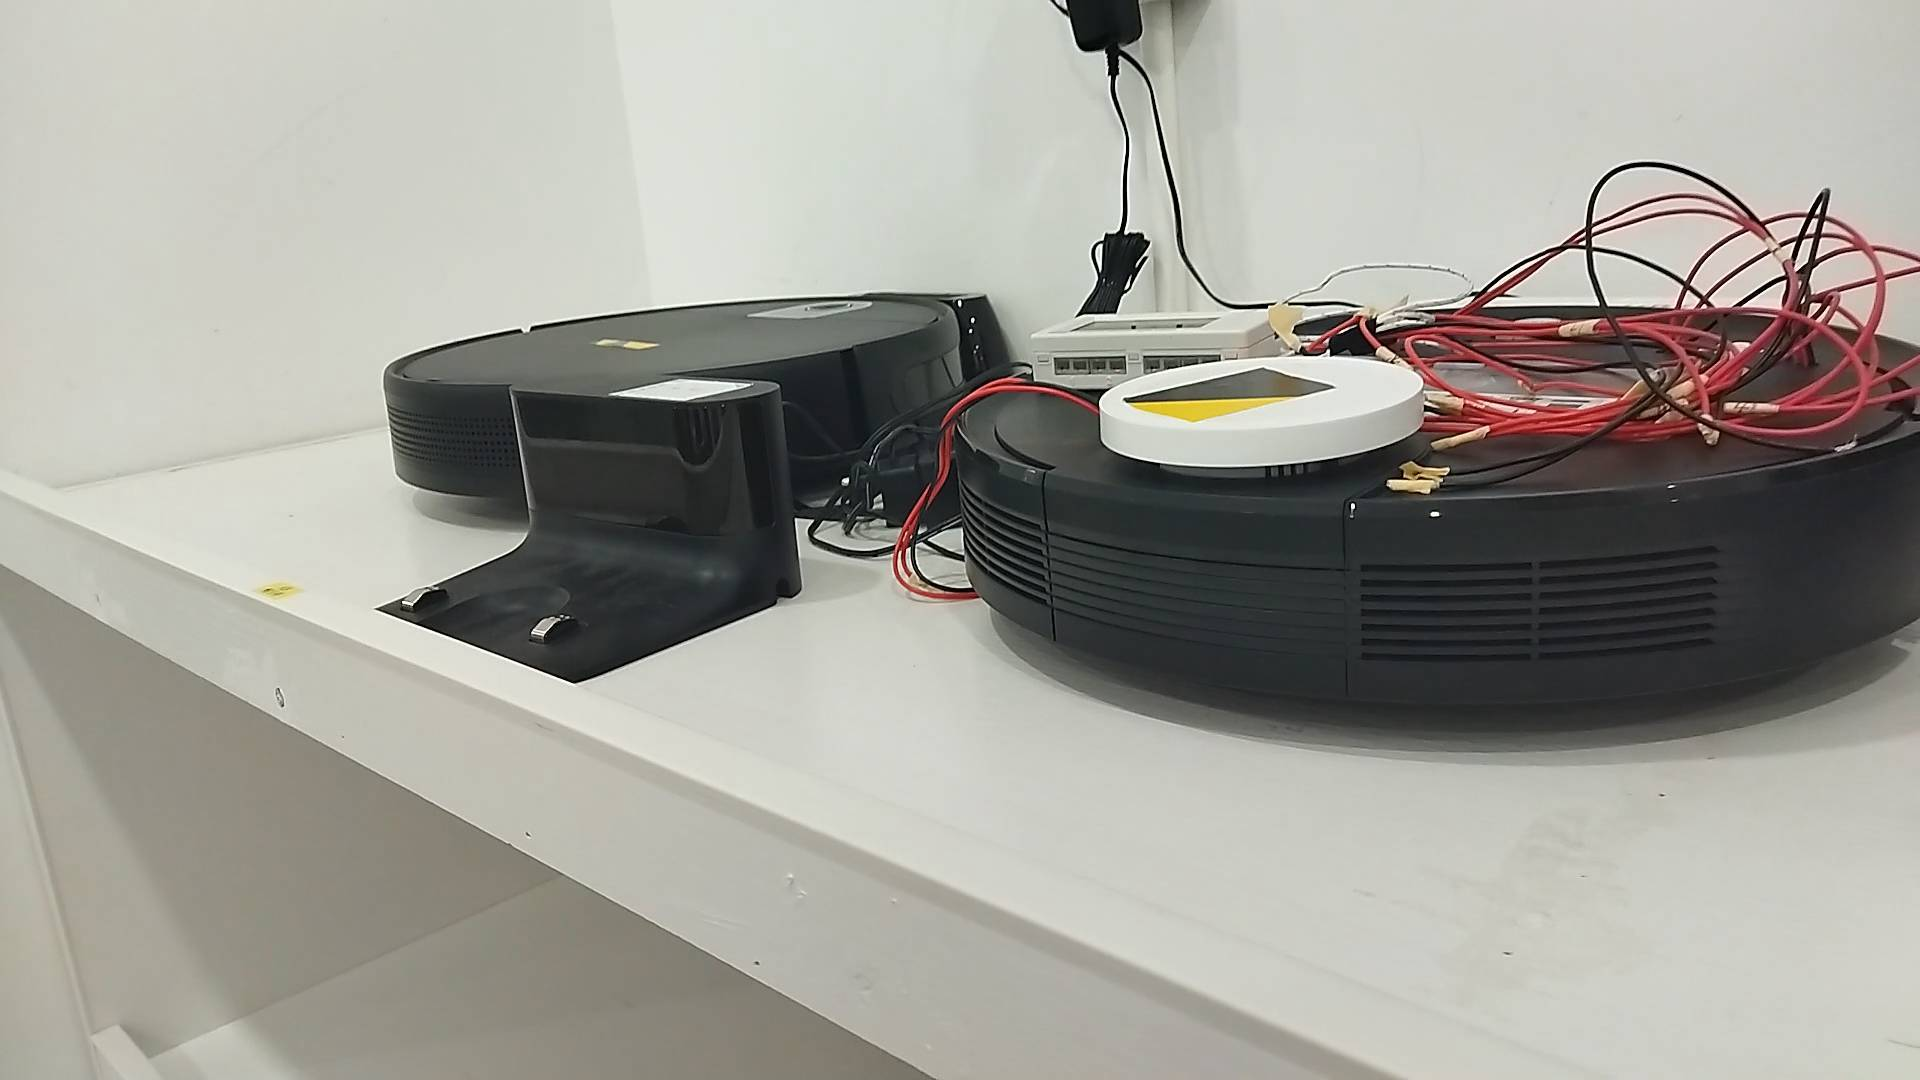recharge seat: (371, 371, 807, 684)
